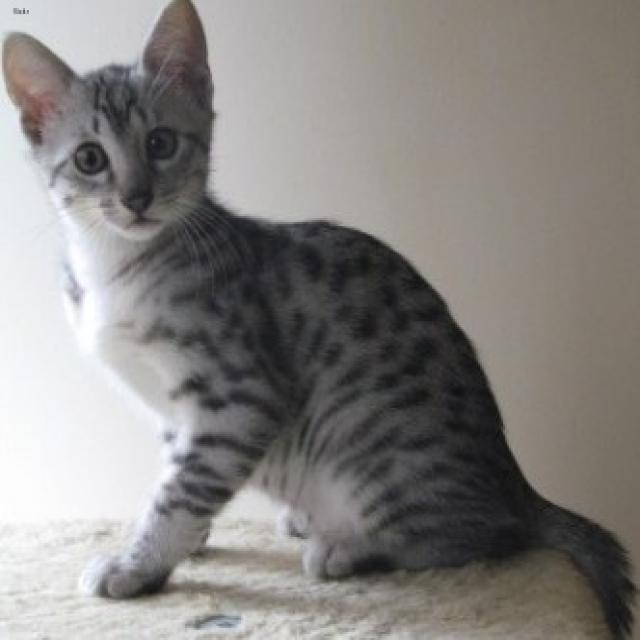Egyptian_Mau: (0, 0, 210, 240)
